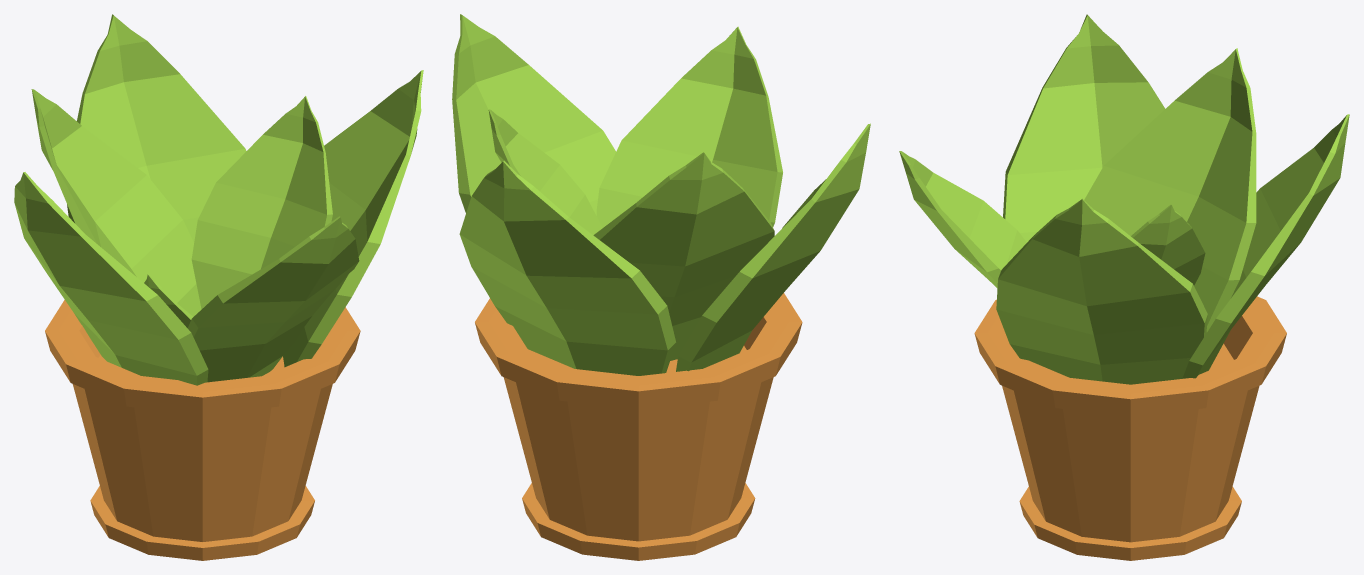
The model's file is SmallPlant.fbx.
3 renders of one model, left to right at view 1: azimuth 30°, elevation 25°; view 2: azimuth 150°, elevation 25°; view 3: azimuth 270°, elevation 25°, orthographic. The views are drawn at different scales.
Parts seen in each view (by area): view 1: SmallPlant; view 2: SmallPlant; view 3: SmallPlant.
Boxes of the visible parts, x1=… form: SmallPlant: x1=14, y1=14, x2=423, y2=560; SmallPlant: x1=452, y1=14, x2=870, y2=560; SmallPlant: x1=899, y1=14, x2=1349, y2=560.
Size of the model in its own units: 281 by 280 by 278.
